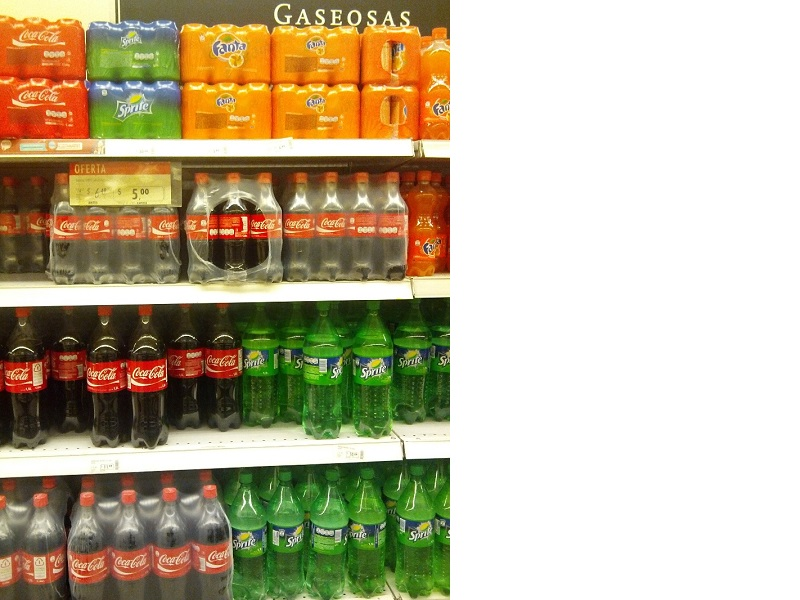lemonade: (115, 298, 175, 455), (81, 303, 138, 455), (337, 464, 400, 597), (342, 298, 399, 442), (298, 299, 352, 447), (1, 306, 53, 456), (254, 467, 314, 595), (387, 463, 444, 596), (233, 299, 289, 431), (197, 298, 246, 443), (390, 293, 432, 435), (309, 463, 352, 598)
